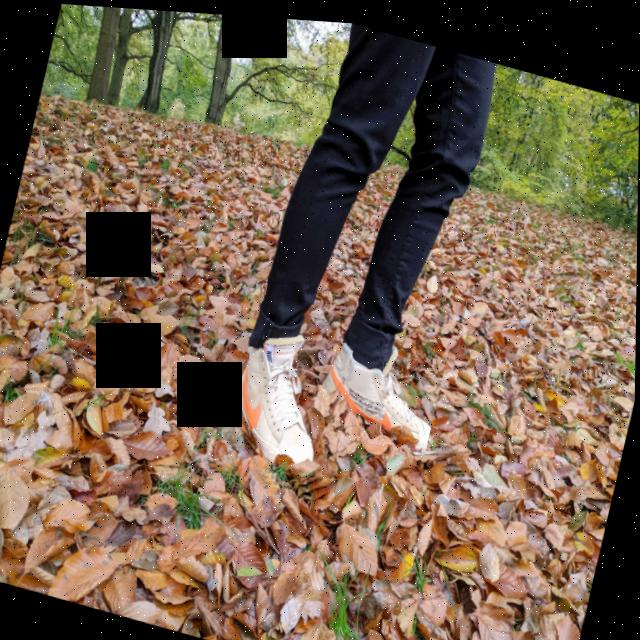shoe: (190, 259, 366, 499), (315, 282, 457, 449)
